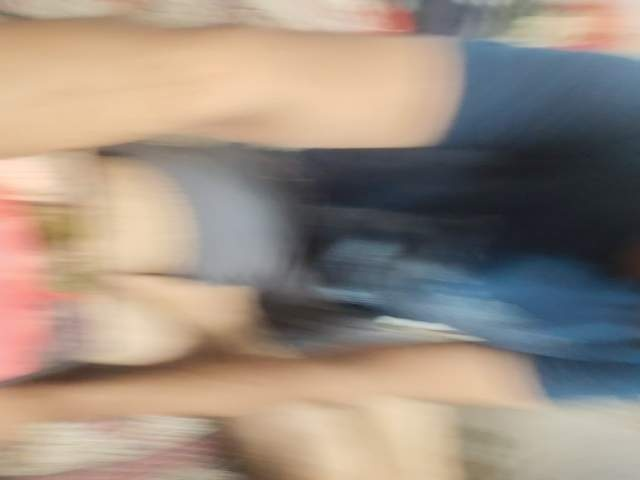pothole: (337, 308, 437, 388)
